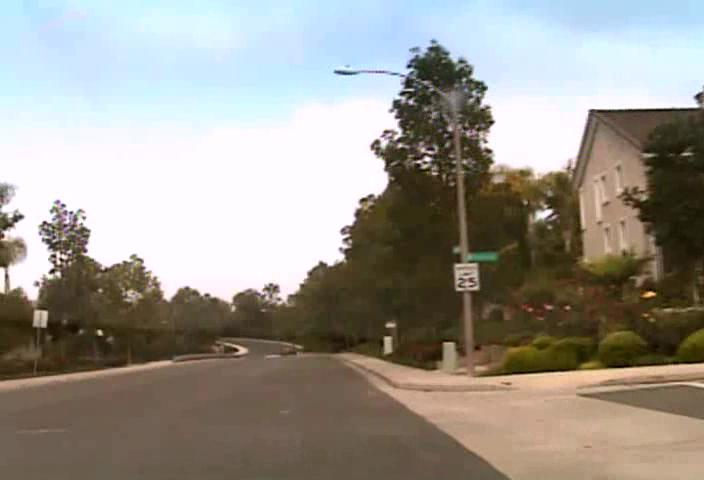speedLimit25: (452, 261, 480, 292)
